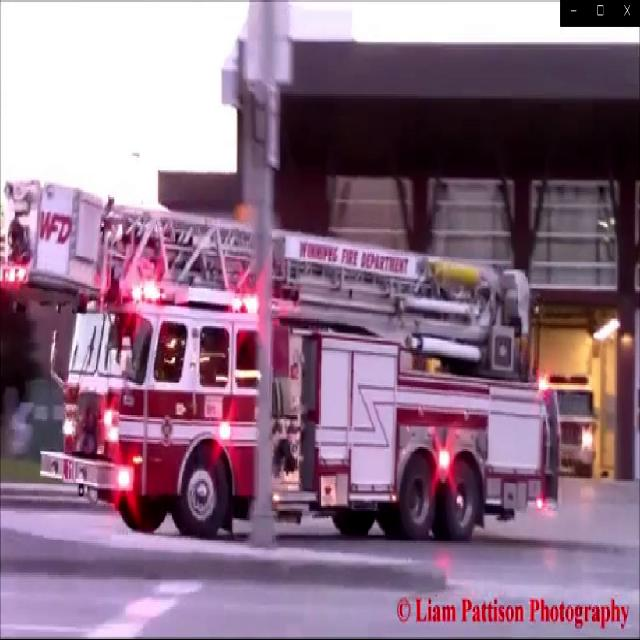emergency: (0, 181, 562, 551), (533, 362, 604, 486)
